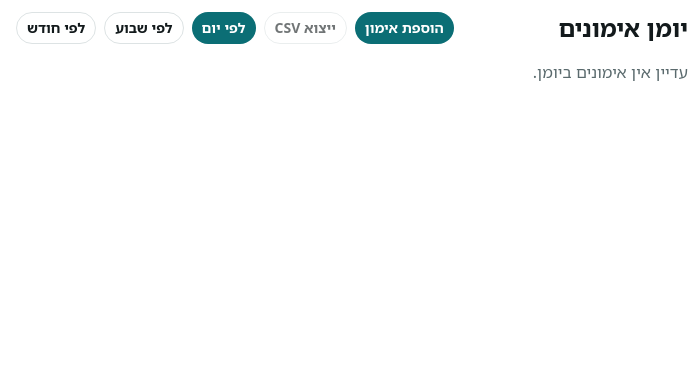
Test: JournalPage › adds a manually-logged workout for a picked lesson, date, and status
The width and height of the screenshot is (700, 372).
Click the button "הוספת אימון".
click(404, 28)  # box x1=355 y1=12 x2=454 y2=44
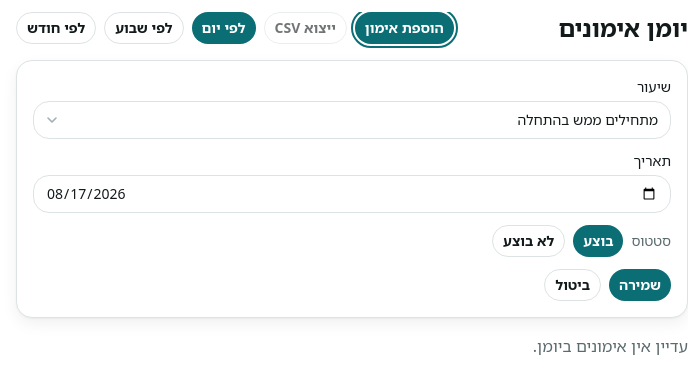
Select "מעברים מרבעים ושמיניות – מהירות גבוהה יותר" in the dropdown named "בחירת שיעור" at (352, 120), box x1=33 y1=101 x2=671 y2=139
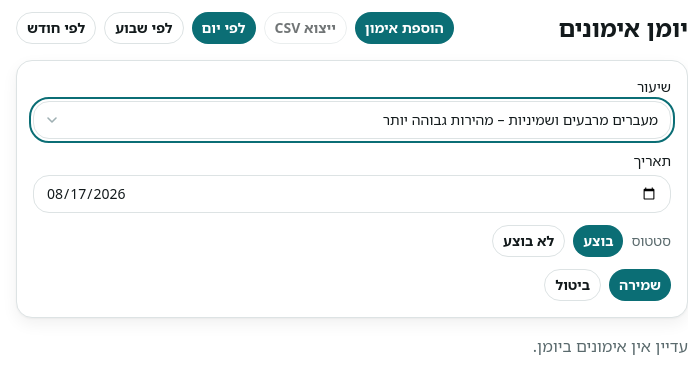
Type "2026-01-05" into the date field labelled "תאריך".
click(352, 194); type("2026-01-05")  # box x1=33 y1=175 x2=671 y2=213
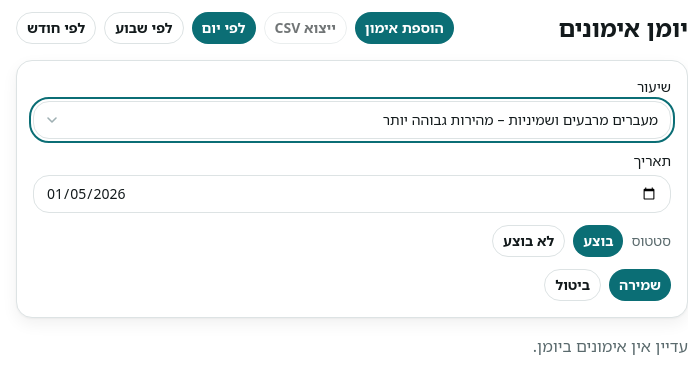
Click the button "לא בוצע".
click(529, 241)  # box x1=492 y1=225 x2=565 y2=257
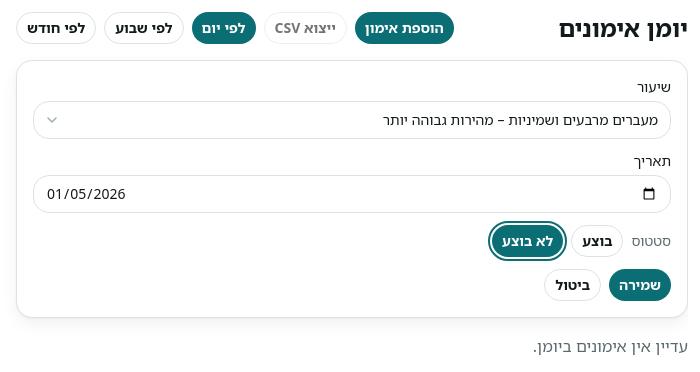
Click the button "שמירה".
click(640, 285)  # box x1=609 y1=269 x2=671 y2=301
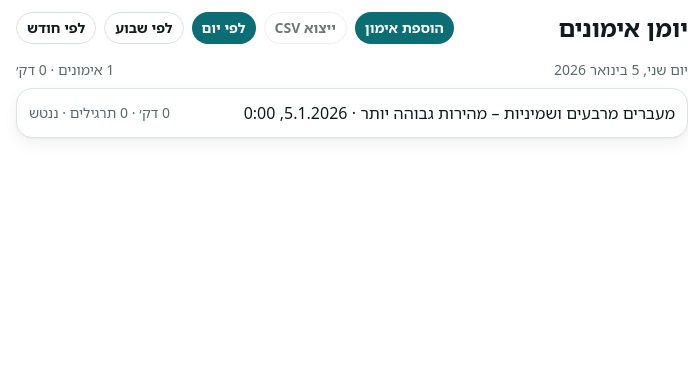
Expected: the text "מעברים מרבעים ושמיניות – מהירות גבוהה יותר ·" is shown, x1=348 y1=102 x2=675 y2=124
